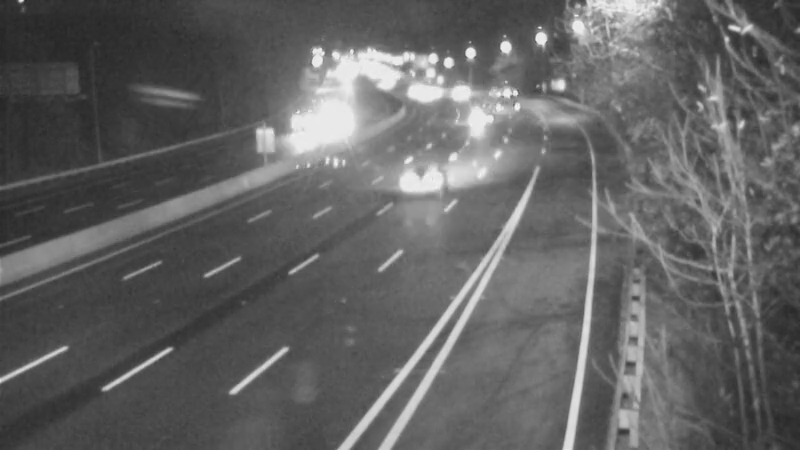vehicle: (382, 143, 462, 223), (413, 64, 463, 114), (431, 64, 481, 114), (480, 72, 530, 122), (465, 99, 515, 149), (275, 101, 325, 151), (312, 99, 362, 149)
